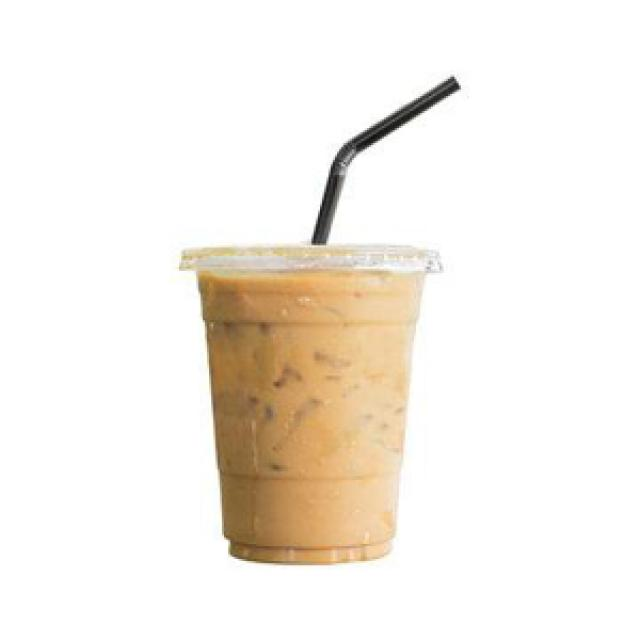plastic cup: (171, 232, 448, 570)
